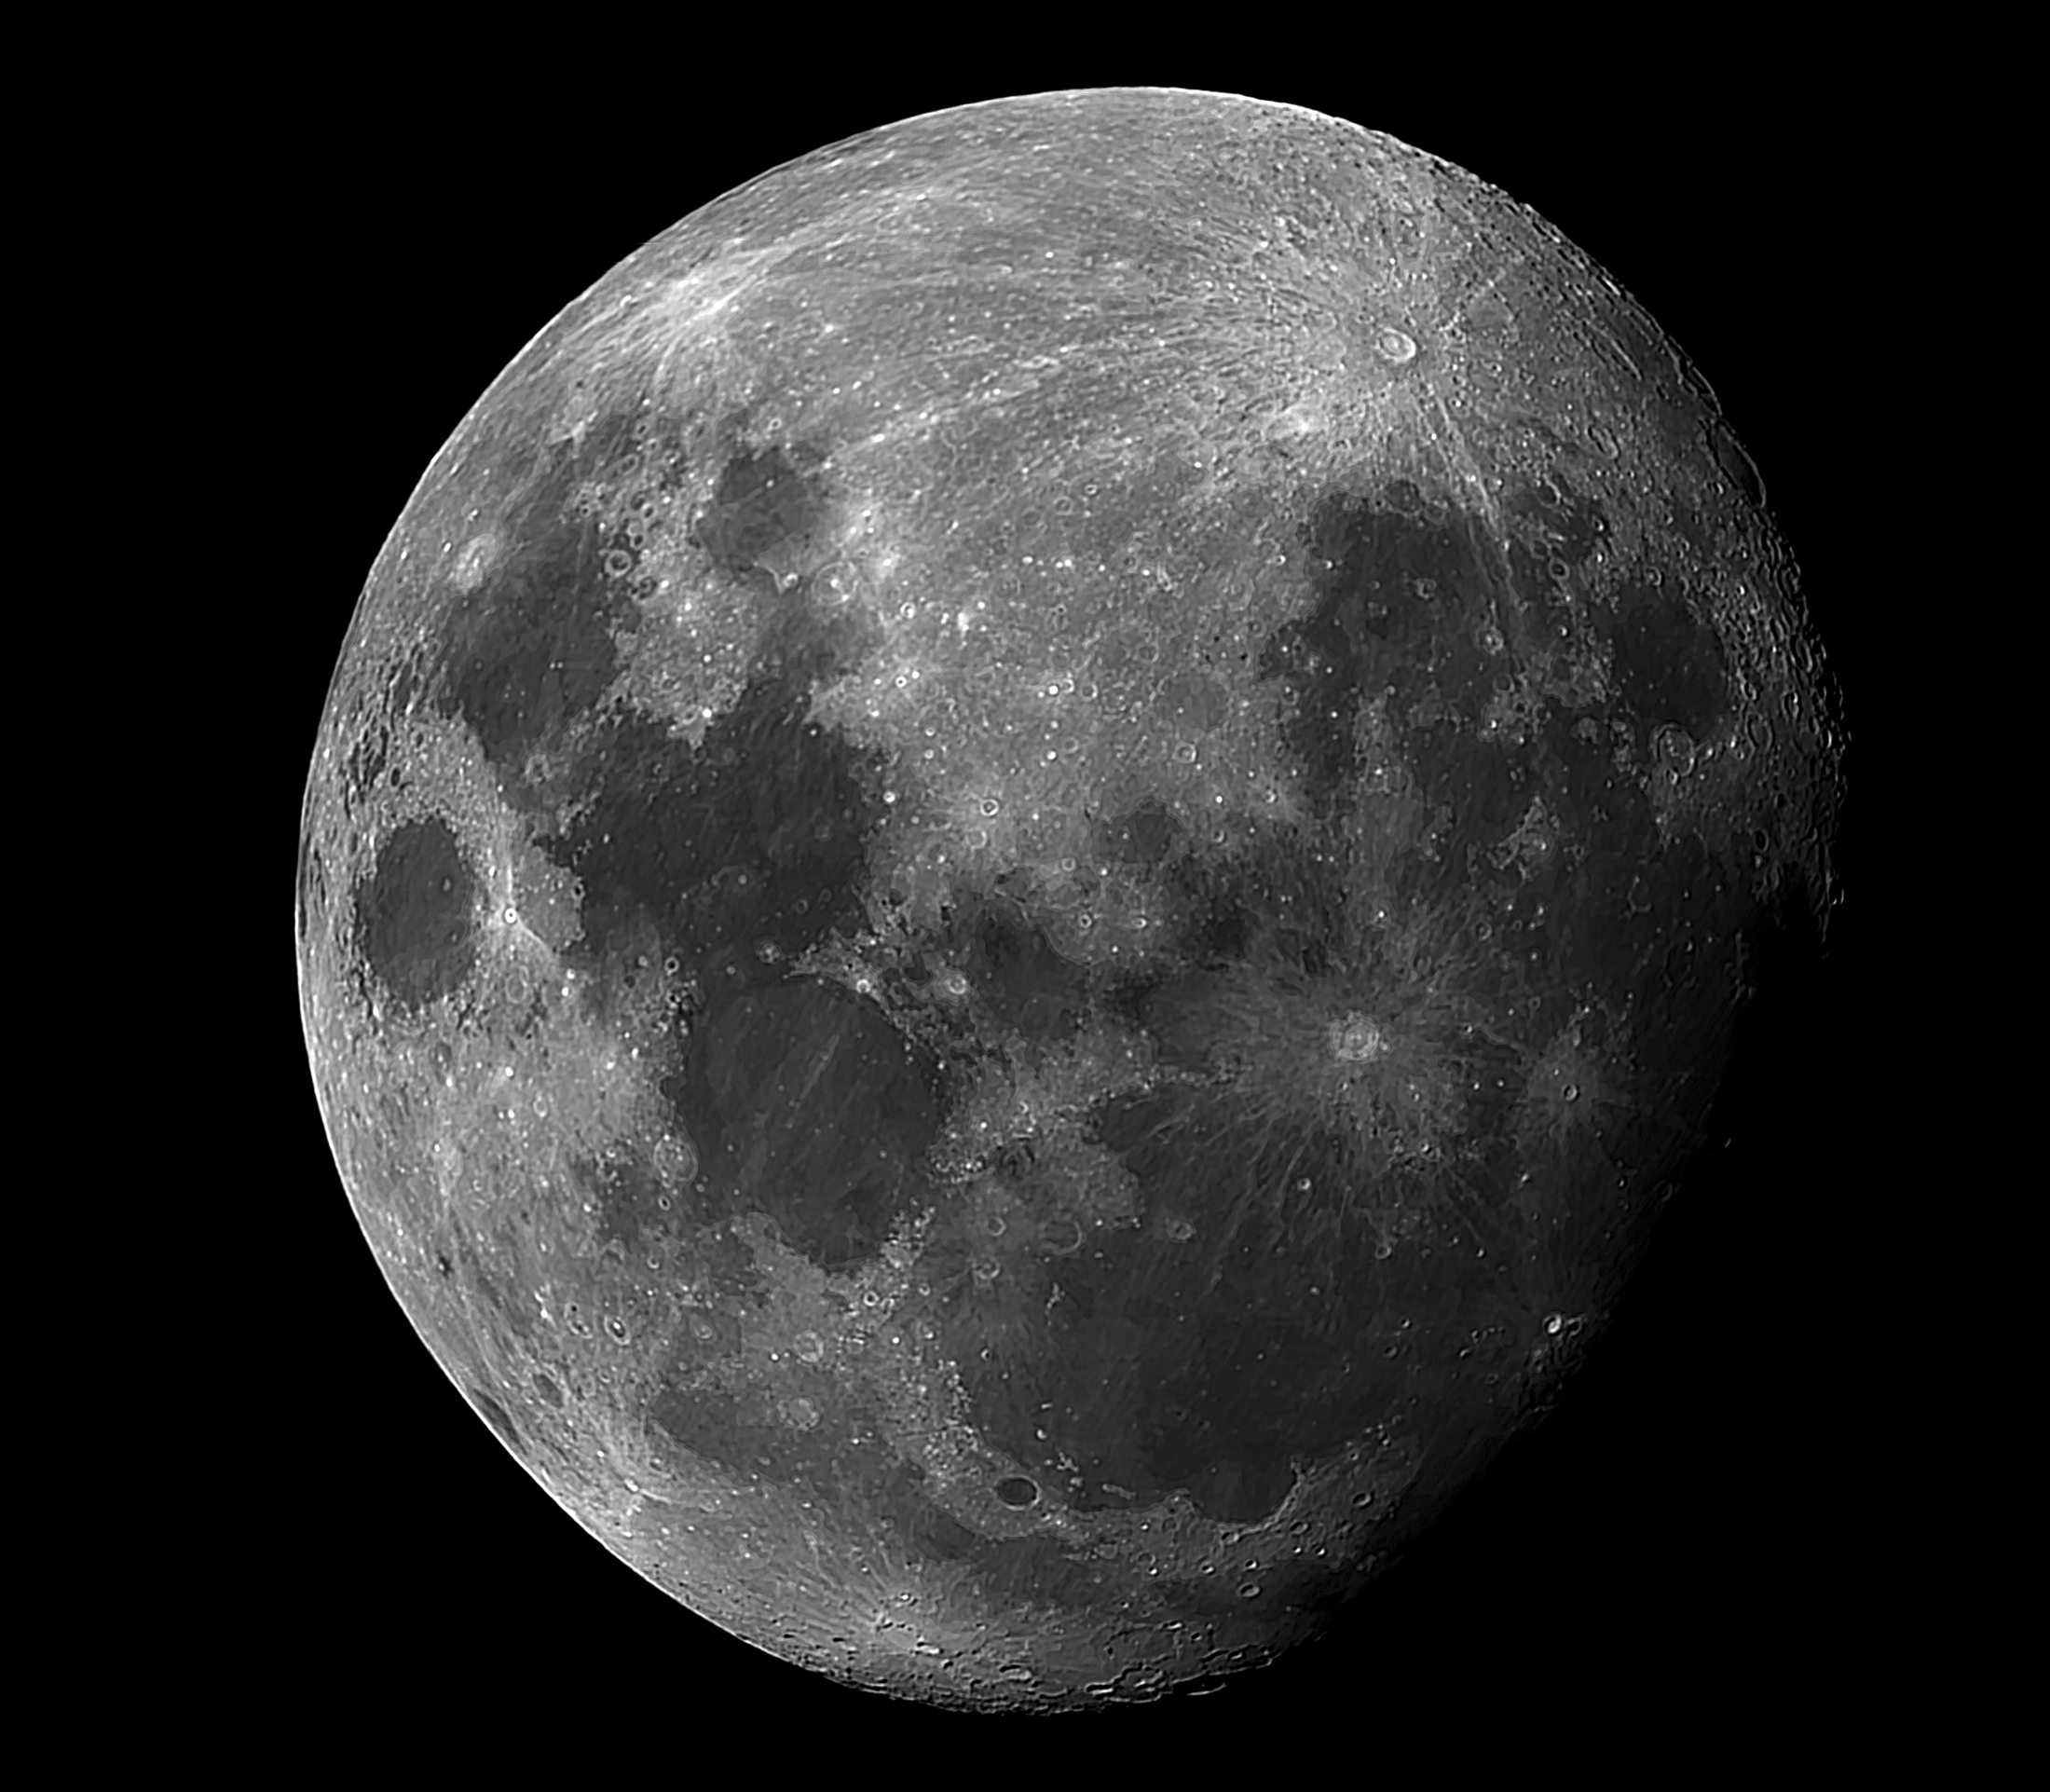crater: (1180, 894, 1497, 1231), (1184, 192, 1492, 537), (331, 804, 495, 1049), (615, 246, 830, 385), (901, 922, 1016, 1022), (1138, 650, 1252, 750), (1035, 1196, 1117, 1278), (485, 870, 554, 962), (976, 1464, 1062, 1527), (777, 1316, 840, 1381), (966, 1201, 1018, 1253), (587, 542, 645, 587), (1065, 662, 1119, 708), (650, 941, 704, 985), (966, 783, 1016, 823)
